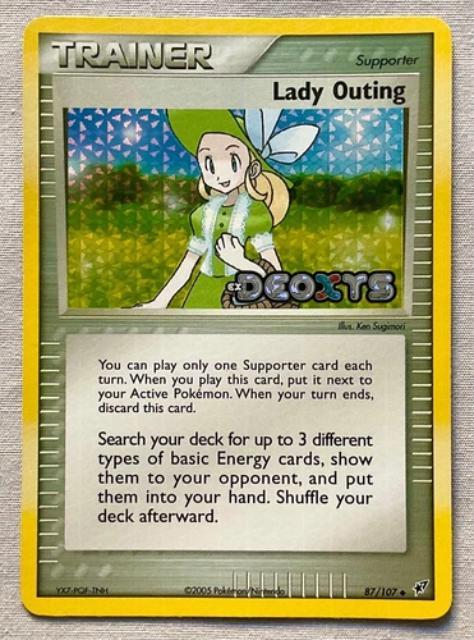Card: (13, 9, 458, 628)
Name: (263, 73, 413, 108)
